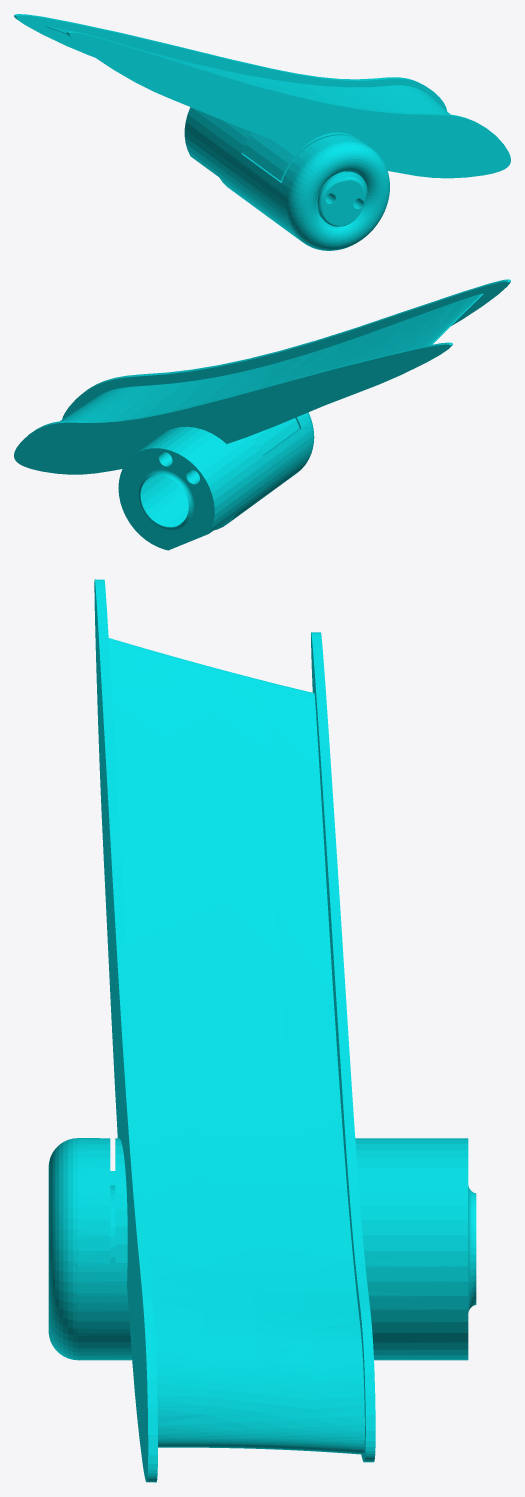
Rendered from long.gltf.
3 renders of one model, top to bottom at view 1: azimuth 30°, elevation 25°; view 2: azimuth 150°, elevation 25°; view 3: azimuth 270°, elevation 25°, orthographic. The views are drawn at different scales.
Parts seen in each view (by area): view 1: Assembly_tampone_long_Dx_Unite (1); view 2: Assembly_tampone_long_Dx_Unite (1); view 3: Assembly_tampone_long_Dx_Unite (1).
Boxes of the visible parts, <box> form: Assembly_tampone_long_Dx_Unite (1): <box>14,14,510,250</box>; Assembly_tampone_long_Dx_Unite (1): <box>14,279,510,550</box>; Assembly_tampone_long_Dx_Unite (1): <box>48,579,476,1482</box>.
Size of the model in its own units: 166 by 96.11 by 70.83.
